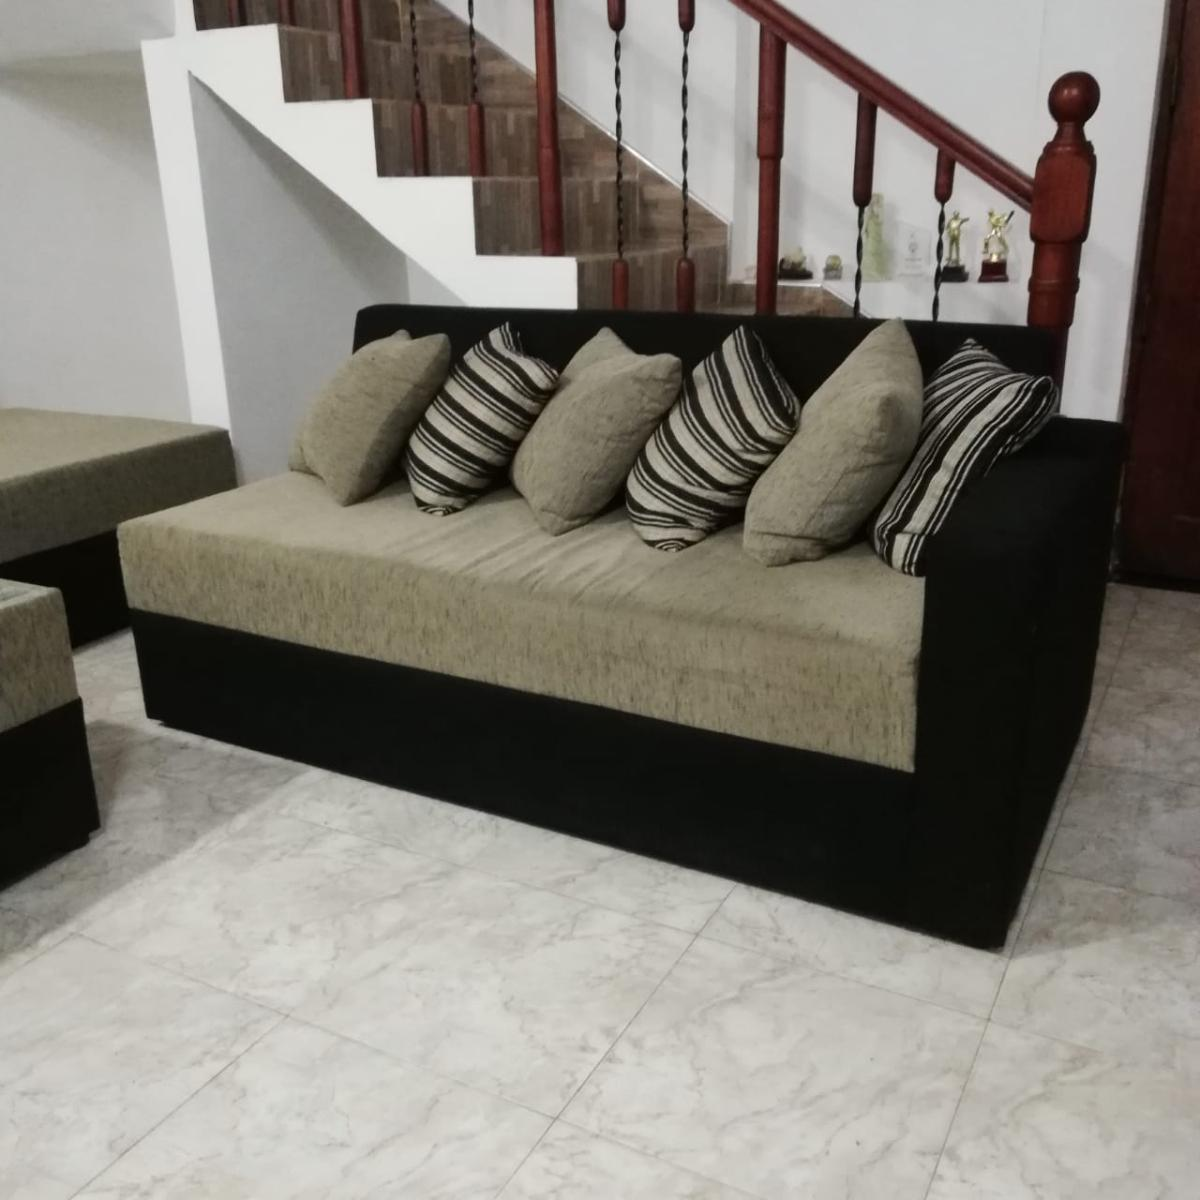Sofa: (116, 302, 1119, 951)
